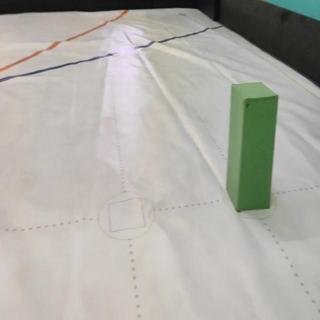greenbox: (226, 79, 280, 214)
